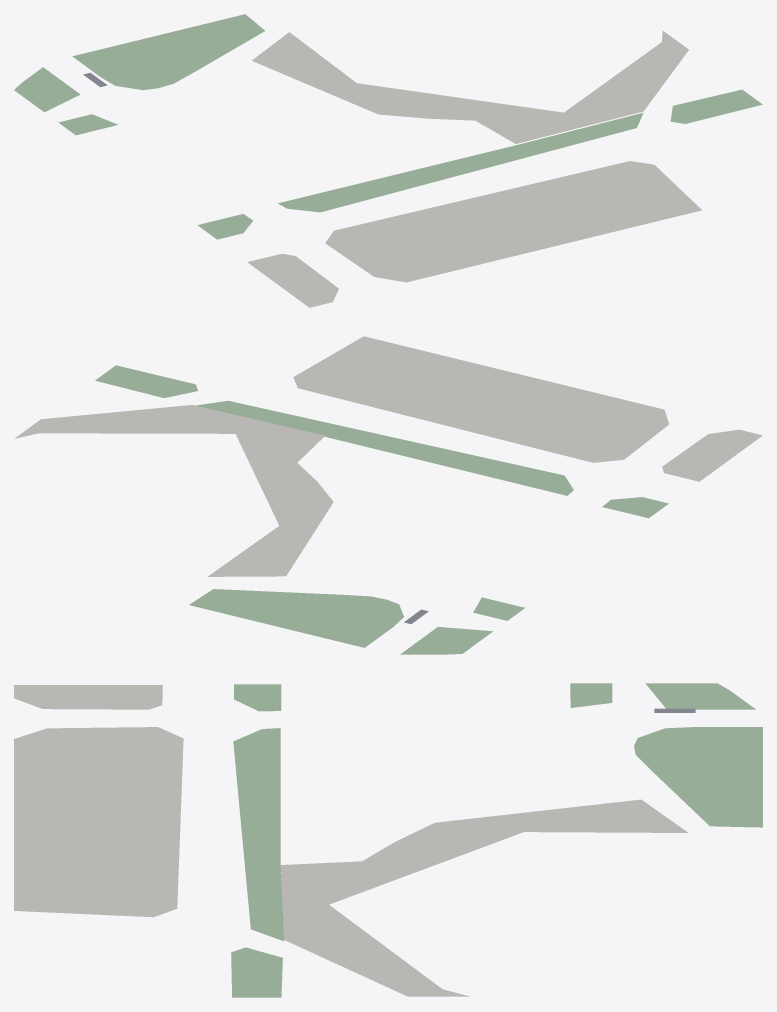
The model's file is 127_66_mid.glb.
3 renders of one model, top to bottom at view 1: azimuth 30°, elevation 25°; view 2: azimuth 150°, elevation 25°; view 3: azimuth 270°, elevation 25°, orthographic. The views are drawn at different scales.
Bounding box in the file's own units: 500 × 8.05 × 500.
